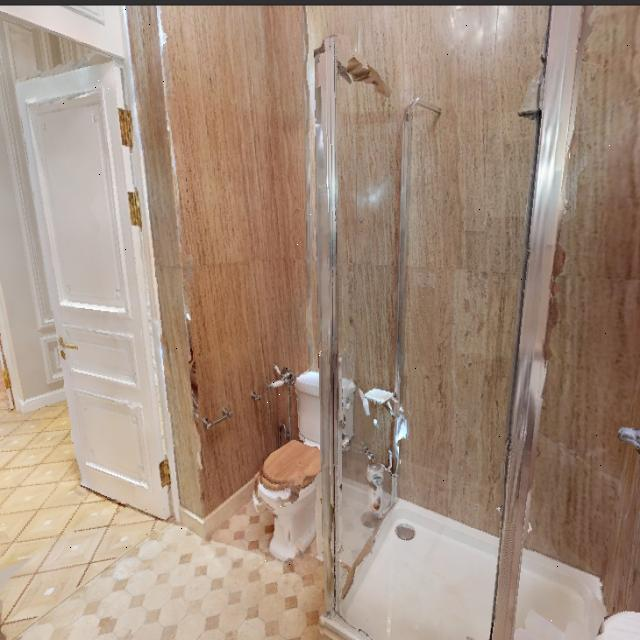door: (47, 66, 173, 530)
door-frame: (0, 3, 182, 570)
shower: (296, 3, 640, 640)
toilet: (256, 343, 362, 574)
